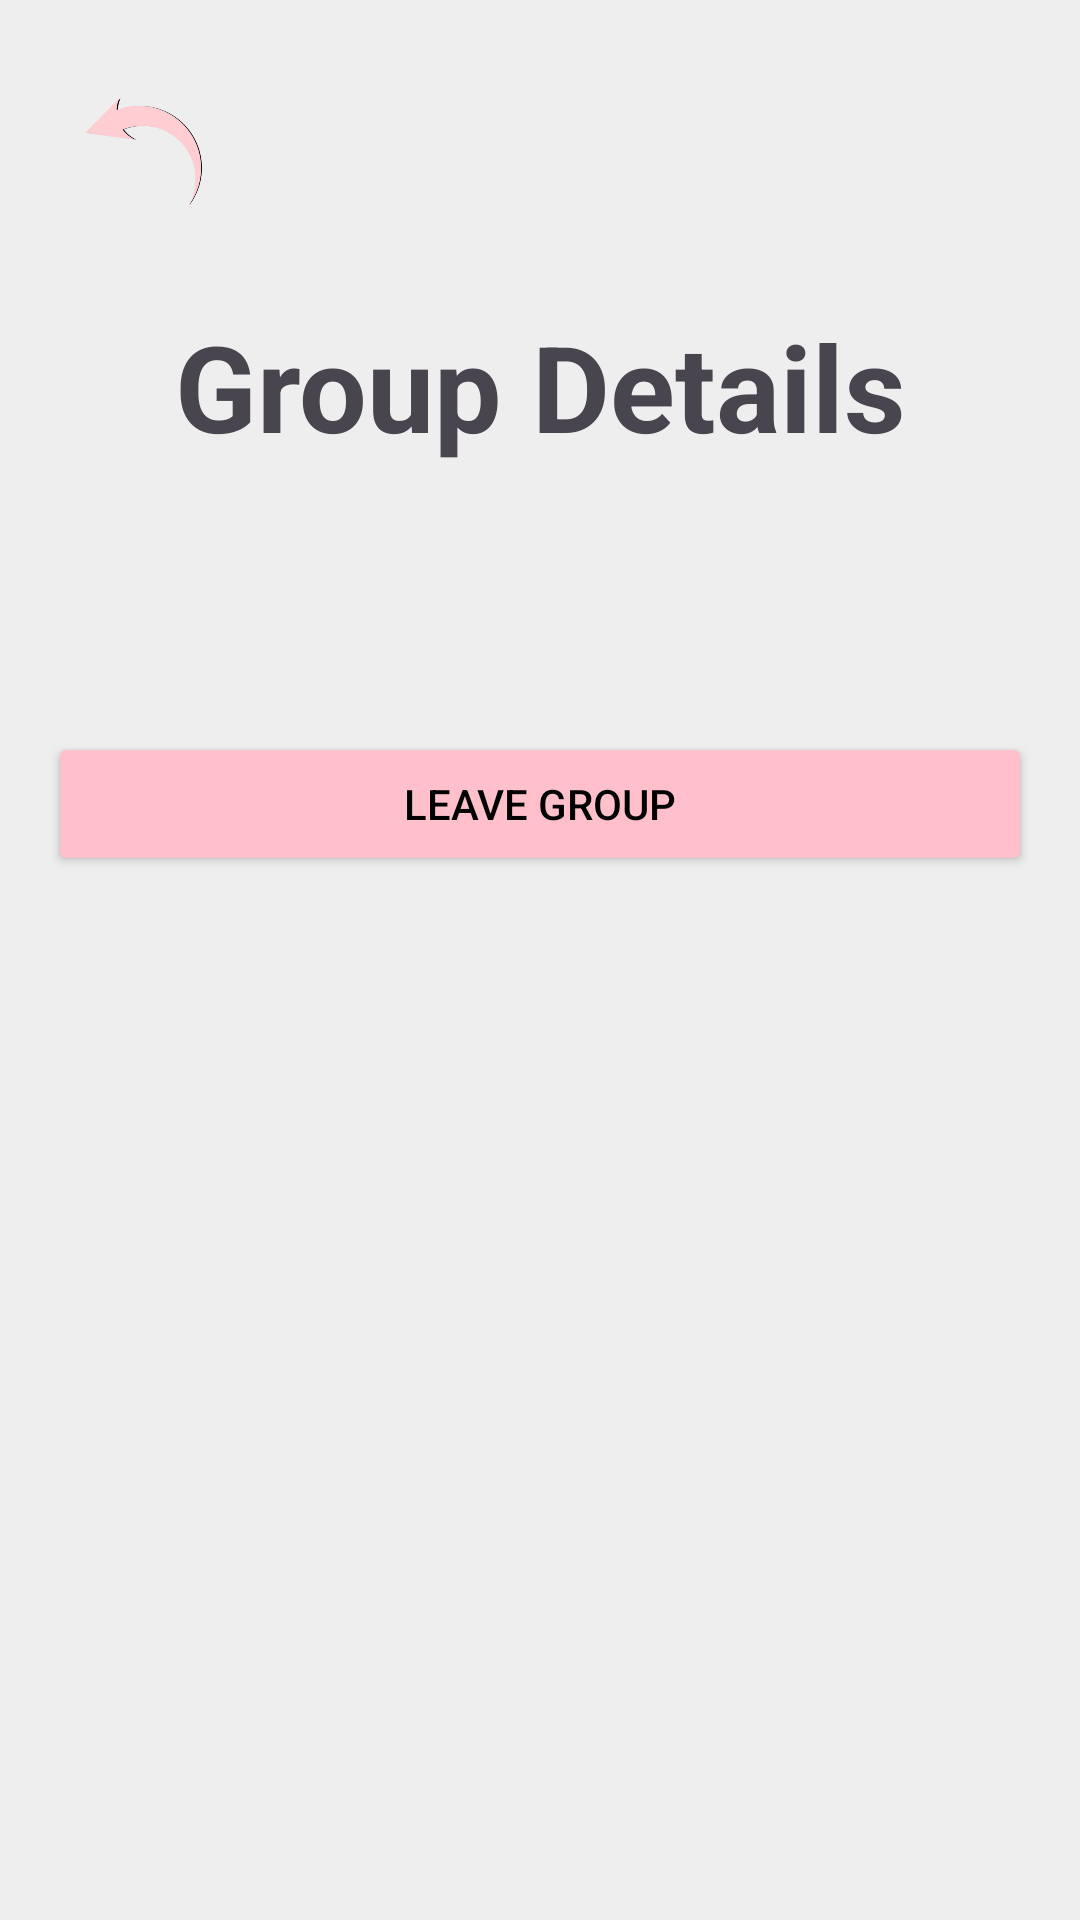

Icons on this 1080w x 1920h Android screen, each with the point to tap as point (x, y):
Back Button: point (144, 151)
